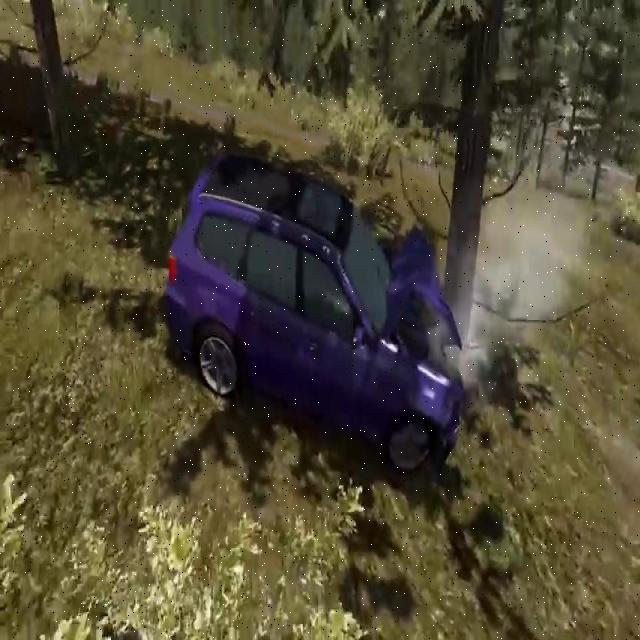moderate: (157, 143, 487, 476)
